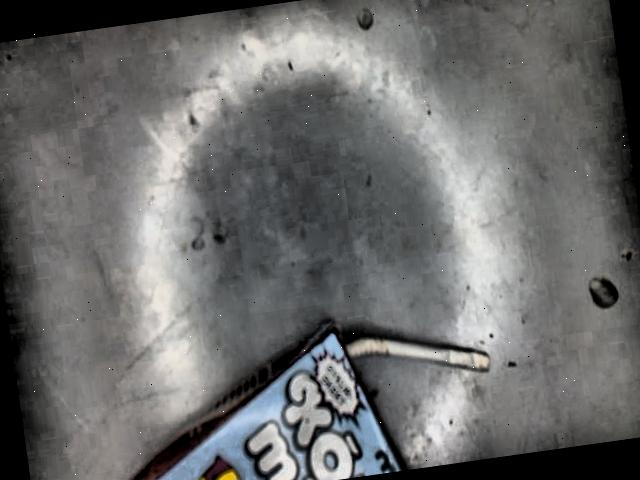Paper: (125, 320, 488, 480)
